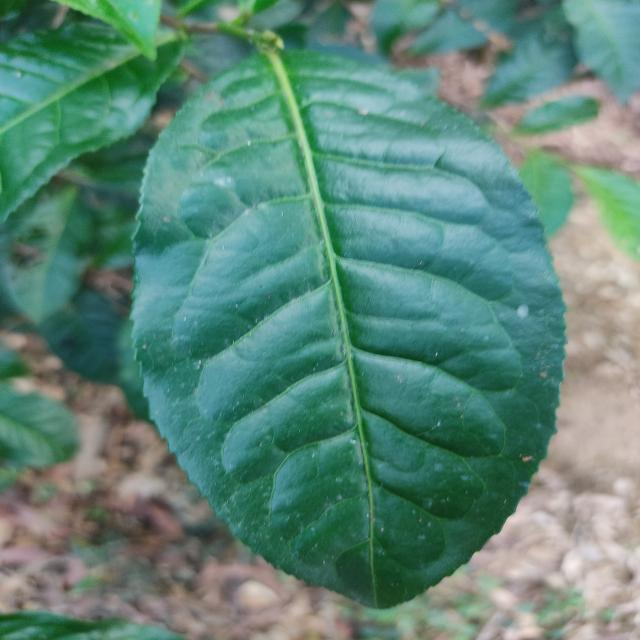Category D(7+ days, Not for Tea): (112, 40, 577, 622)
